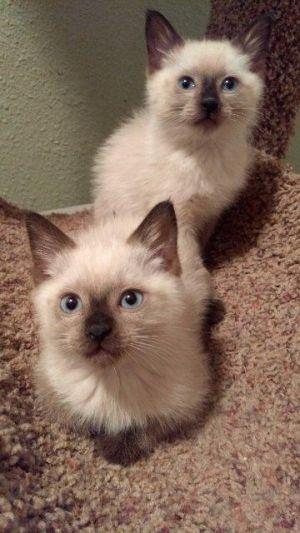siamese: (15, 199, 199, 384)
